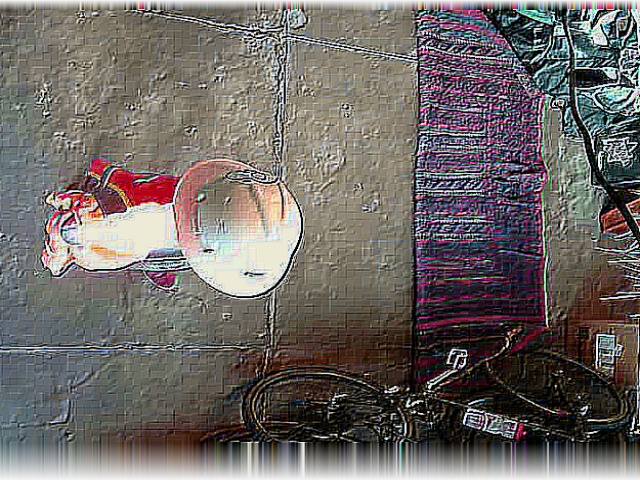eight: (225, 169, 280, 185)
